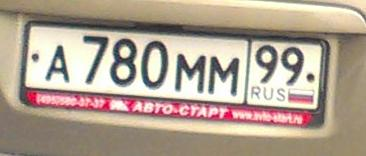license-plateSW: (23, 25, 327, 105)
